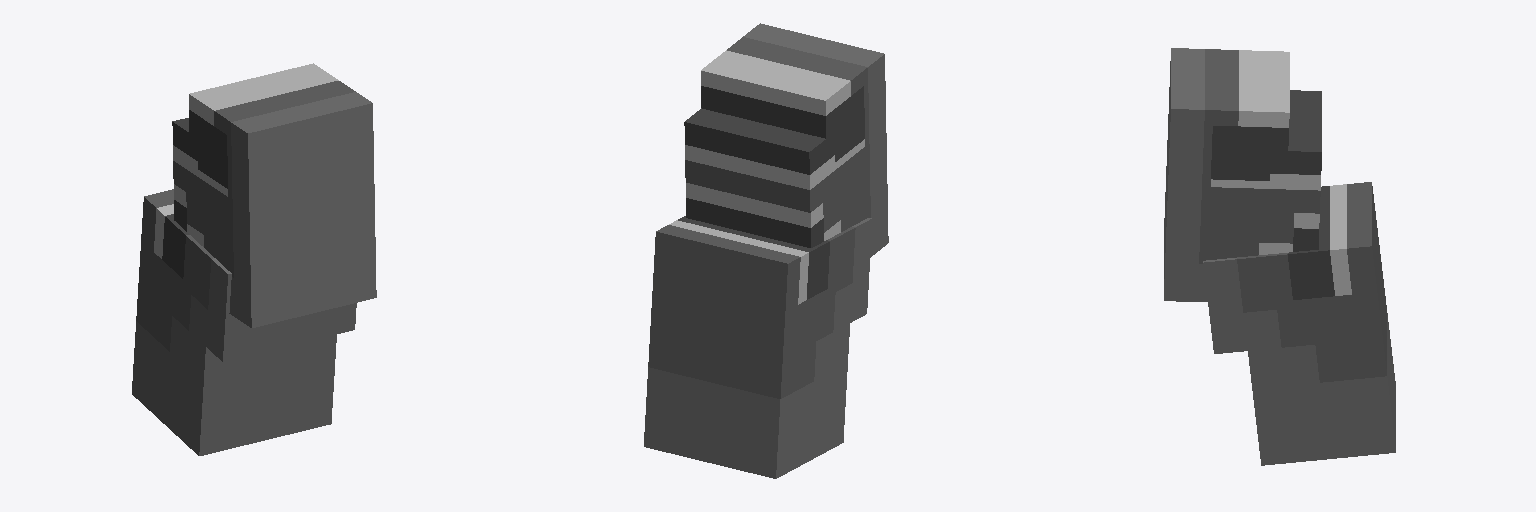
3 views of the same model, side by side, from view 1: azimuth 30°, elevation 25°; view 2: azimuth 150°, elevation 25°; view 3: azimuth 270°, elevation 25° (orthographic).
Visible parts, largest first — view 1: Model; view 2: Model; view 3: Model.
Boxes of the visible parts, box(x1,y1,x2,y2) form: Model: box(132, 63, 376, 455); Model: box(644, 23, 888, 478); Model: box(1164, 48, 1395, 465).
Bounding box in the file's own units: 18 × 46.17 × 27.41.
1 materials, 1 textured.